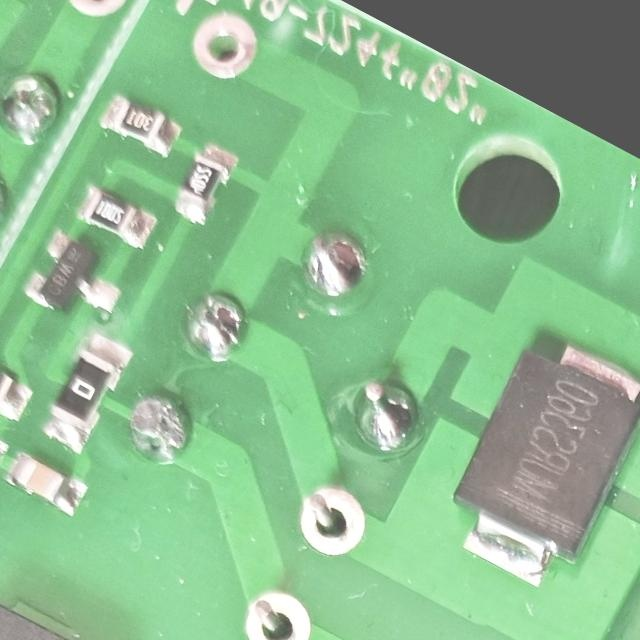chip-capacitor: (0, 445, 94, 522)
chip-resistor: (34, 328, 138, 460), (94, 86, 187, 165), (165, 137, 243, 231), (69, 177, 163, 255)
diode: (420, 315, 640, 605)
transistor: (14, 223, 137, 341)
